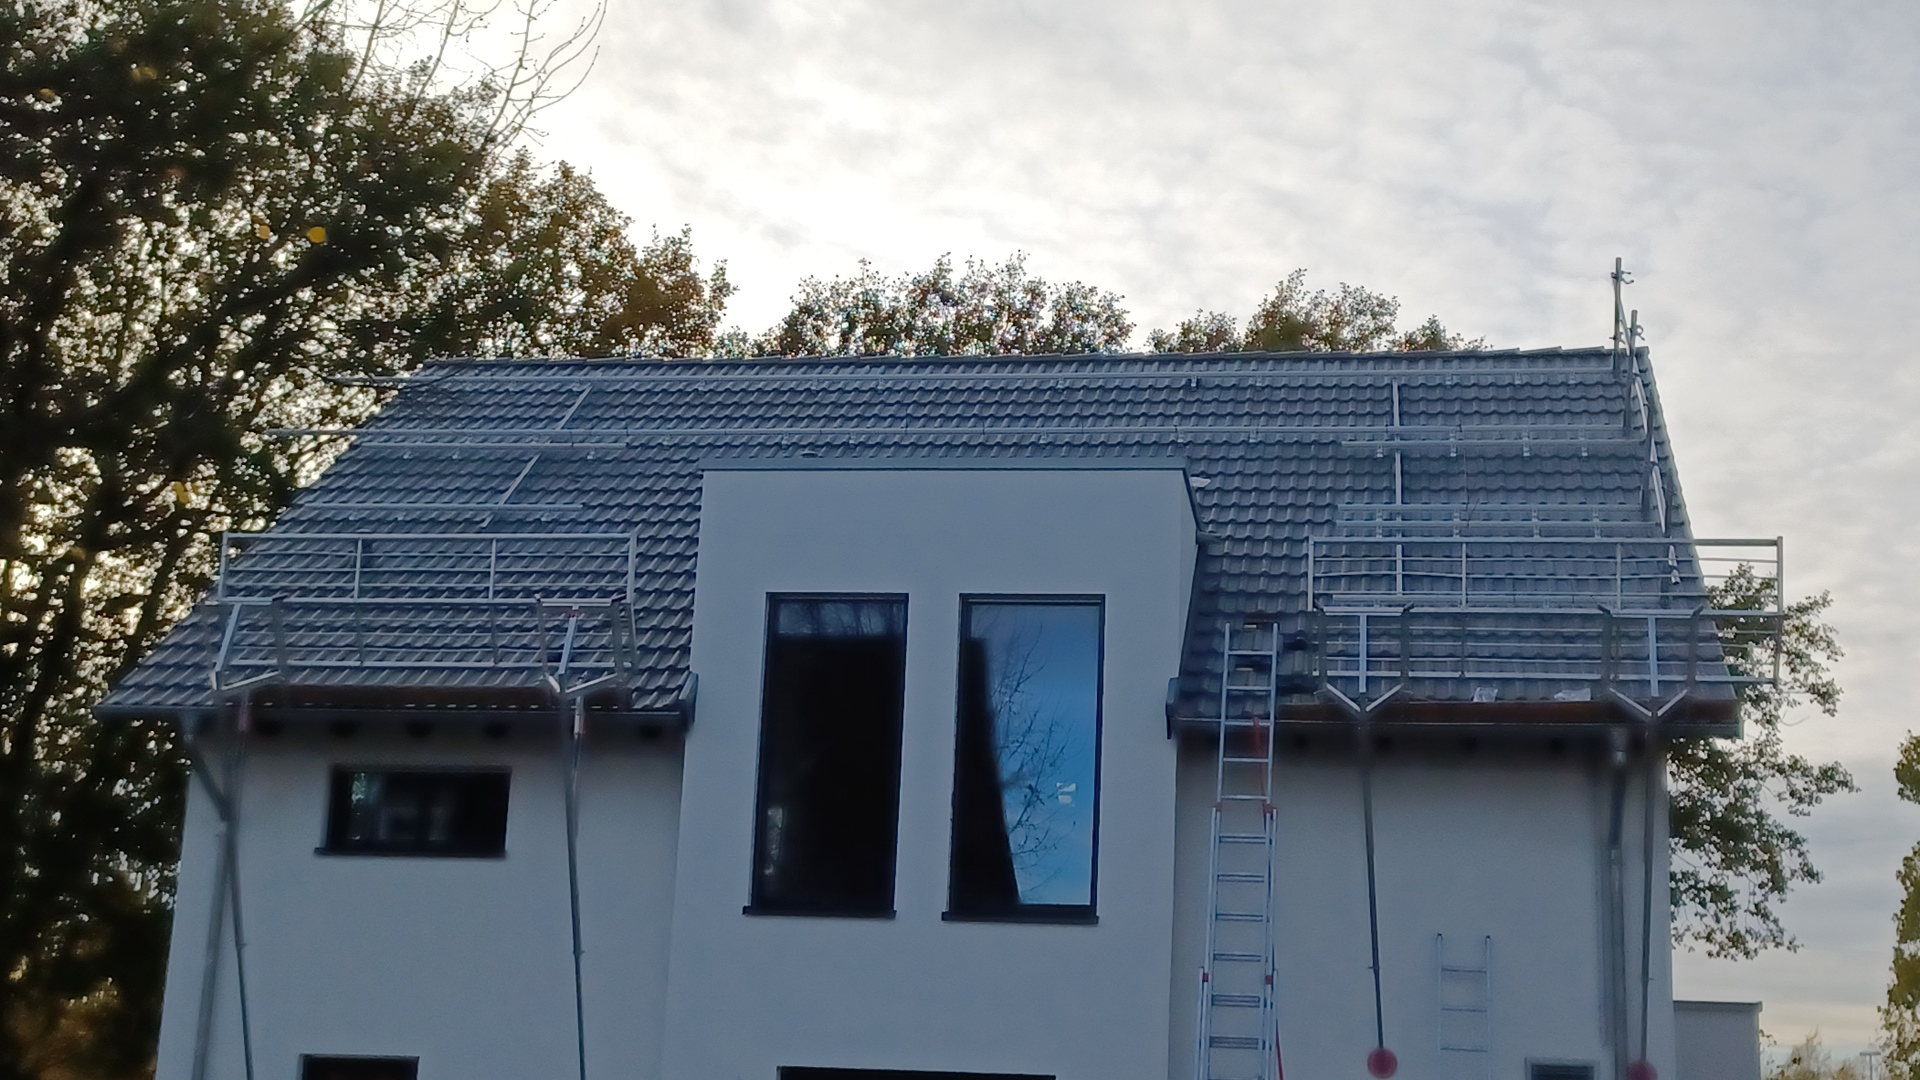hook: (661, 431, 670, 448), (587, 446, 596, 462), (810, 377, 818, 396), (1375, 443, 1383, 462), (1178, 429, 1184, 448), (452, 447, 462, 460), (849, 430, 856, 448), (1581, 443, 1588, 462), (698, 378, 704, 396), (782, 431, 789, 448), (877, 377, 884, 394), (1039, 431, 1046, 448), (1191, 375, 1197, 392), (1569, 371, 1576, 388), (404, 447, 413, 459), (1523, 443, 1530, 459), (1452, 506, 1460, 520), (1058, 375, 1063, 393), (1250, 429, 1255, 447), (1255, 373, 1261, 392), (1514, 372, 1520, 386), (1375, 508, 1383, 520), (1534, 524, 1540, 537), (1594, 525, 1601, 538), (1451, 443, 1456, 459), (1375, 525, 1382, 537), (1449, 429, 1456, 440), (1522, 427, 1528, 439), (1593, 508, 1600, 520), (1445, 372, 1451, 386), (1578, 429, 1585, 439), (1532, 509, 1538, 520), (1455, 526, 1460, 535)
